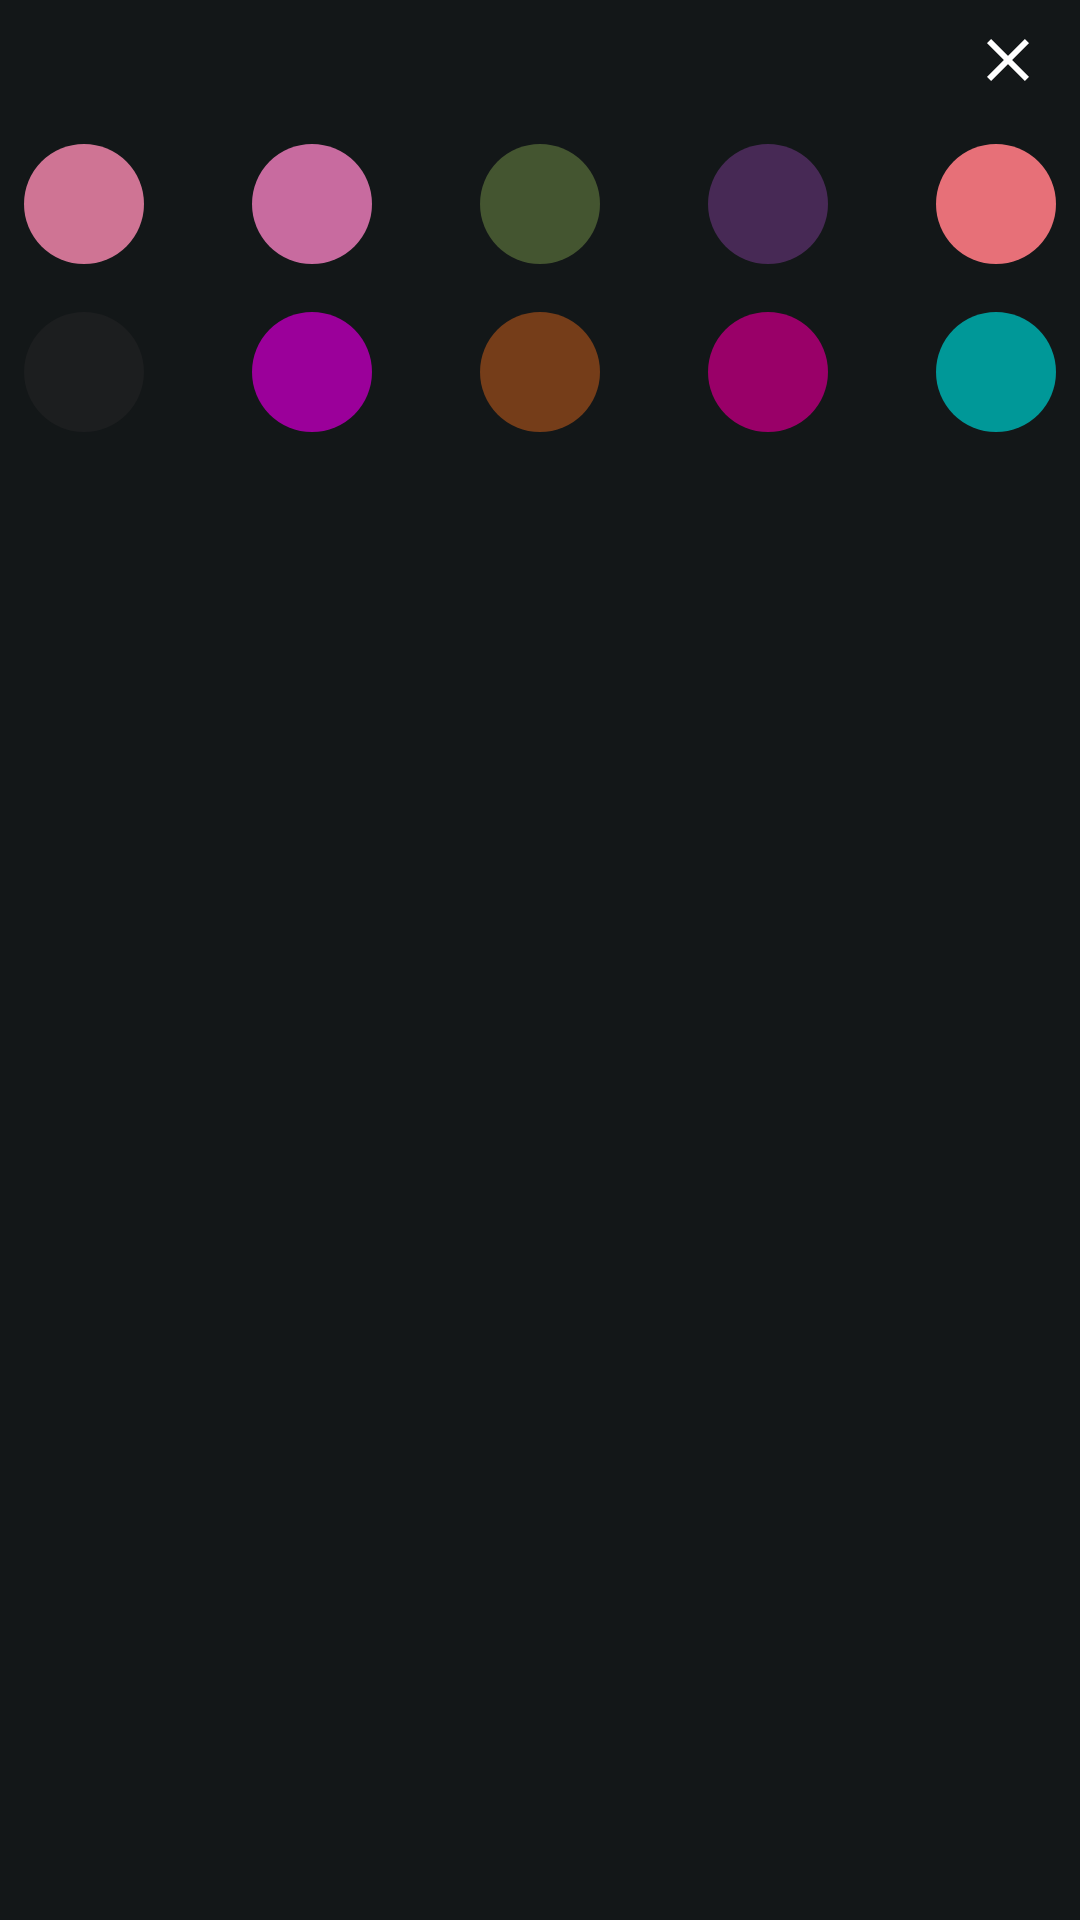

Icons on this 1080x1920 Android screen, each with its box as (x1, y1, x2, y2):
close: (987, 39, 1029, 81)
